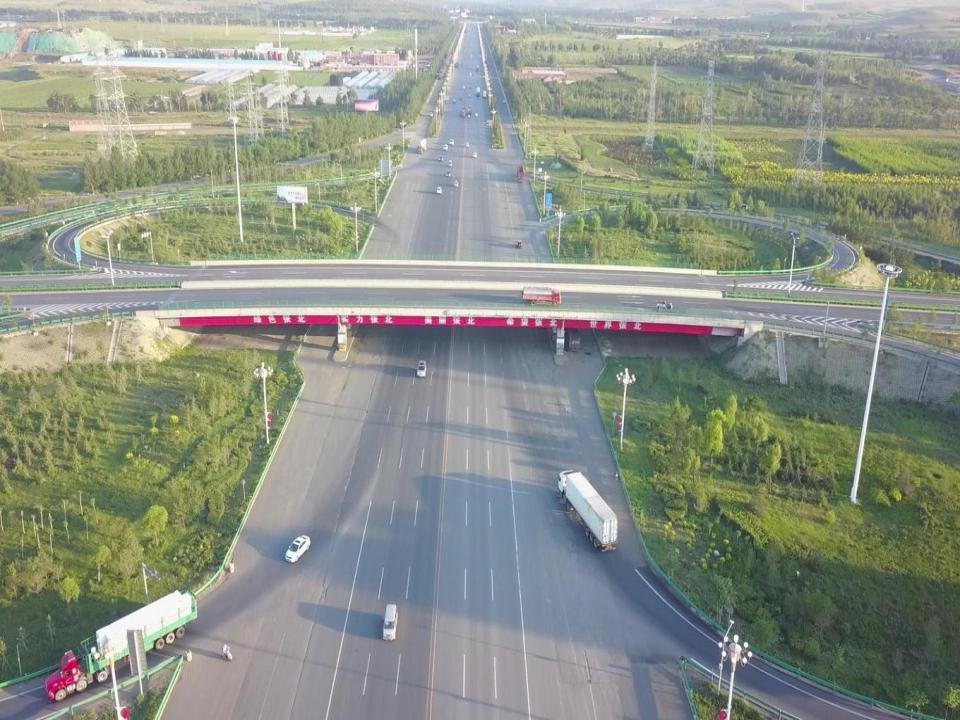car: (284, 535, 312, 564), (414, 358, 426, 375), (517, 164, 522, 184), (462, 135, 470, 146), (435, 184, 442, 194), (437, 152, 442, 164), (442, 143, 449, 151), (518, 234, 522, 246), (449, 136, 455, 144), (447, 156, 452, 164), (451, 177, 456, 183), (472, 150, 479, 154), (446, 168, 450, 174)
truck: (46, 589, 198, 702), (557, 463, 618, 553), (522, 287, 562, 307), (418, 136, 426, 154)
van: (380, 604, 399, 641)
